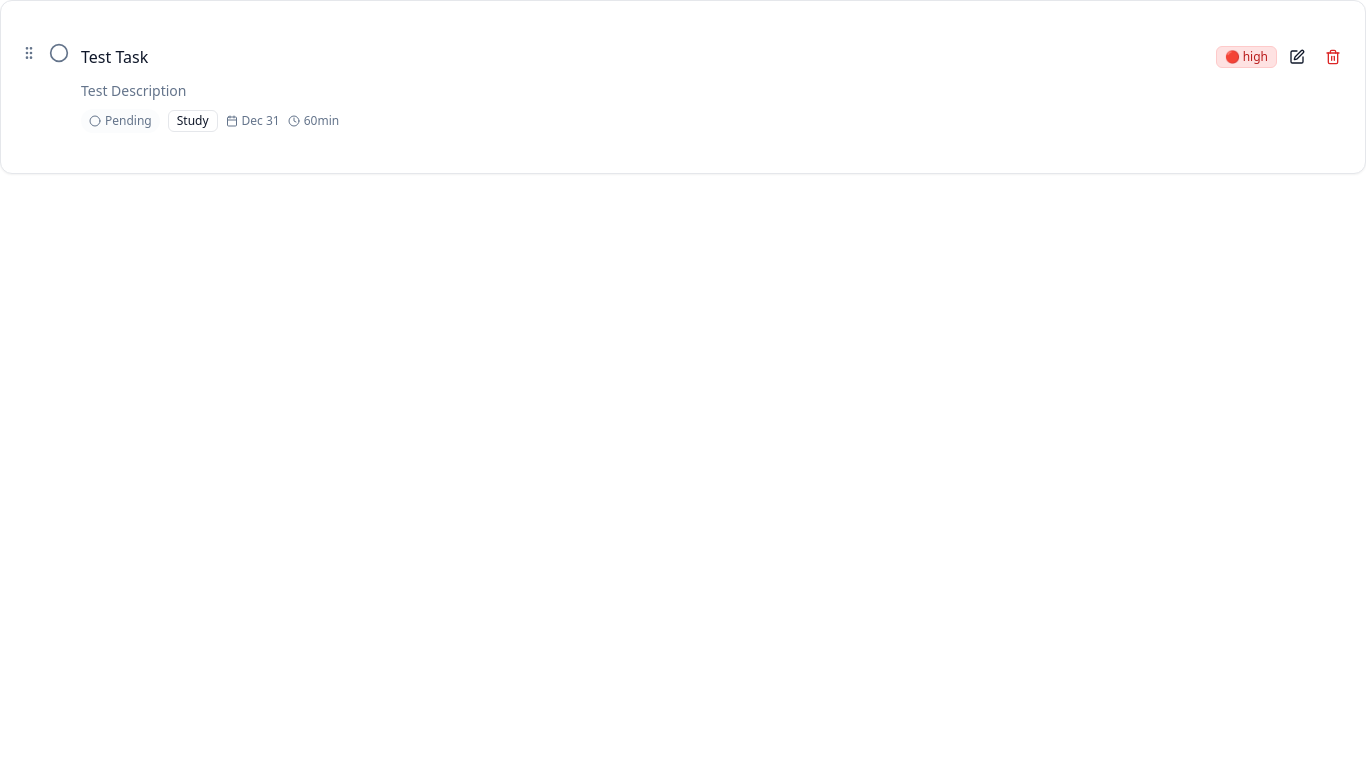
Test: TaskItem › cancels deletion when cancel button is clicked
// Open delete dialog
Click the button named "delete task". click: (1333, 57)
box: left=1317, top=41, right=1349, bottom=73
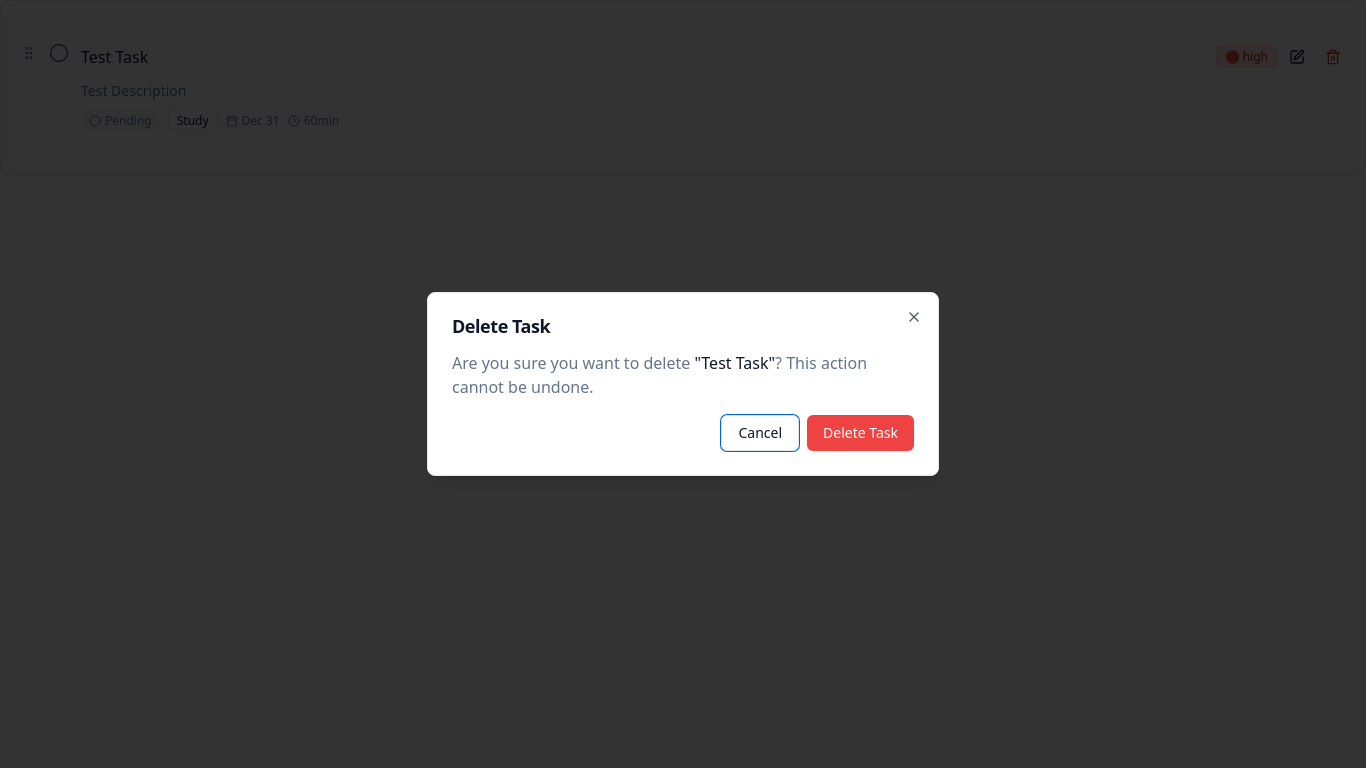
// Cancel deletion
Click the button "Cancel". click: (760, 433)
box: left=722, top=415, right=799, bottom=451
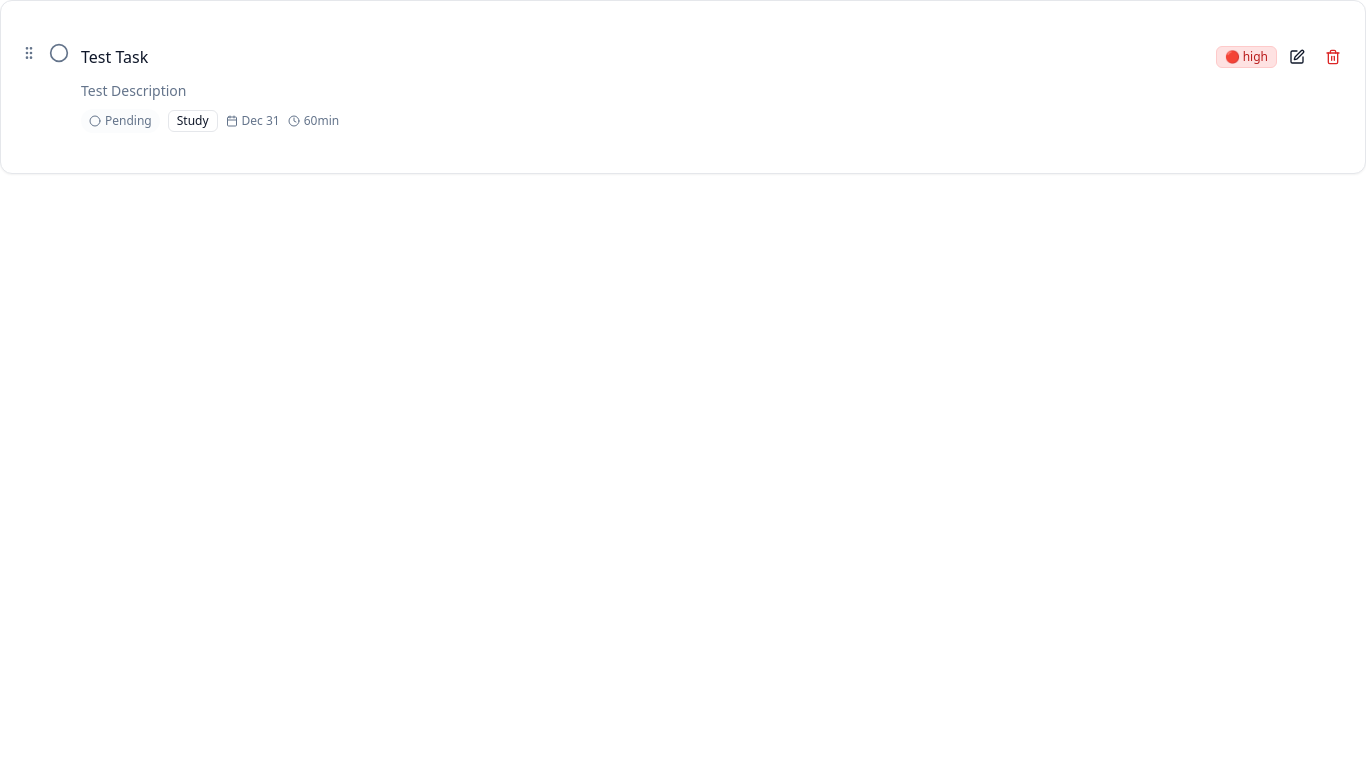
Result: the heading "Delete Task" is gone
